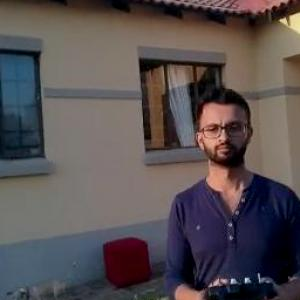follow: (161, 80, 299, 299)
null: (5, 261, 83, 299)
